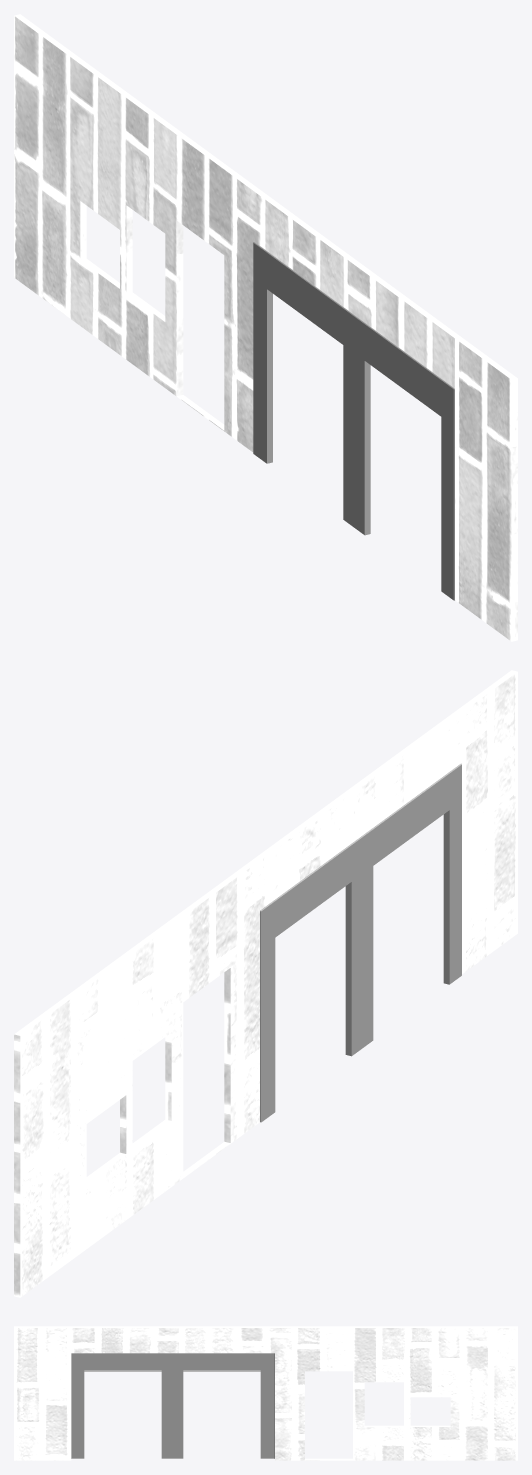
File: SM_ElevatorWall.fbx
3 views of the same model, one above another, from view 1: azimuth 30°, elevation 25°; view 2: azimuth 150°, elevation 25°; view 3: azimuth 270°, elevation 25° (orthographic). The views are drawn at different scales.
Parts seen in each view (by area): view 1: SM_ElevatorWall; view 2: SM_ElevatorWall; view 3: SM_ElevatorWall.
Boxes of the visible parts, bbox=[...] form: SM_ElevatorWall: bbox=[14, 14, 517, 641]; SM_ElevatorWall: bbox=[14, 670, 517, 1297]; SM_ElevatorWall: bbox=[14, 1326, 517, 1460].
Size of the model in its own units: 11.69 by 1378 by 400.
